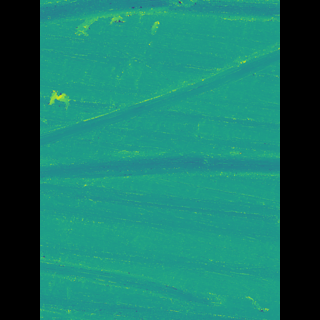Loch: (70, 40, 250, 149), (69, 256, 209, 310), (70, 152, 250, 182), (68, 0, 250, 18)
